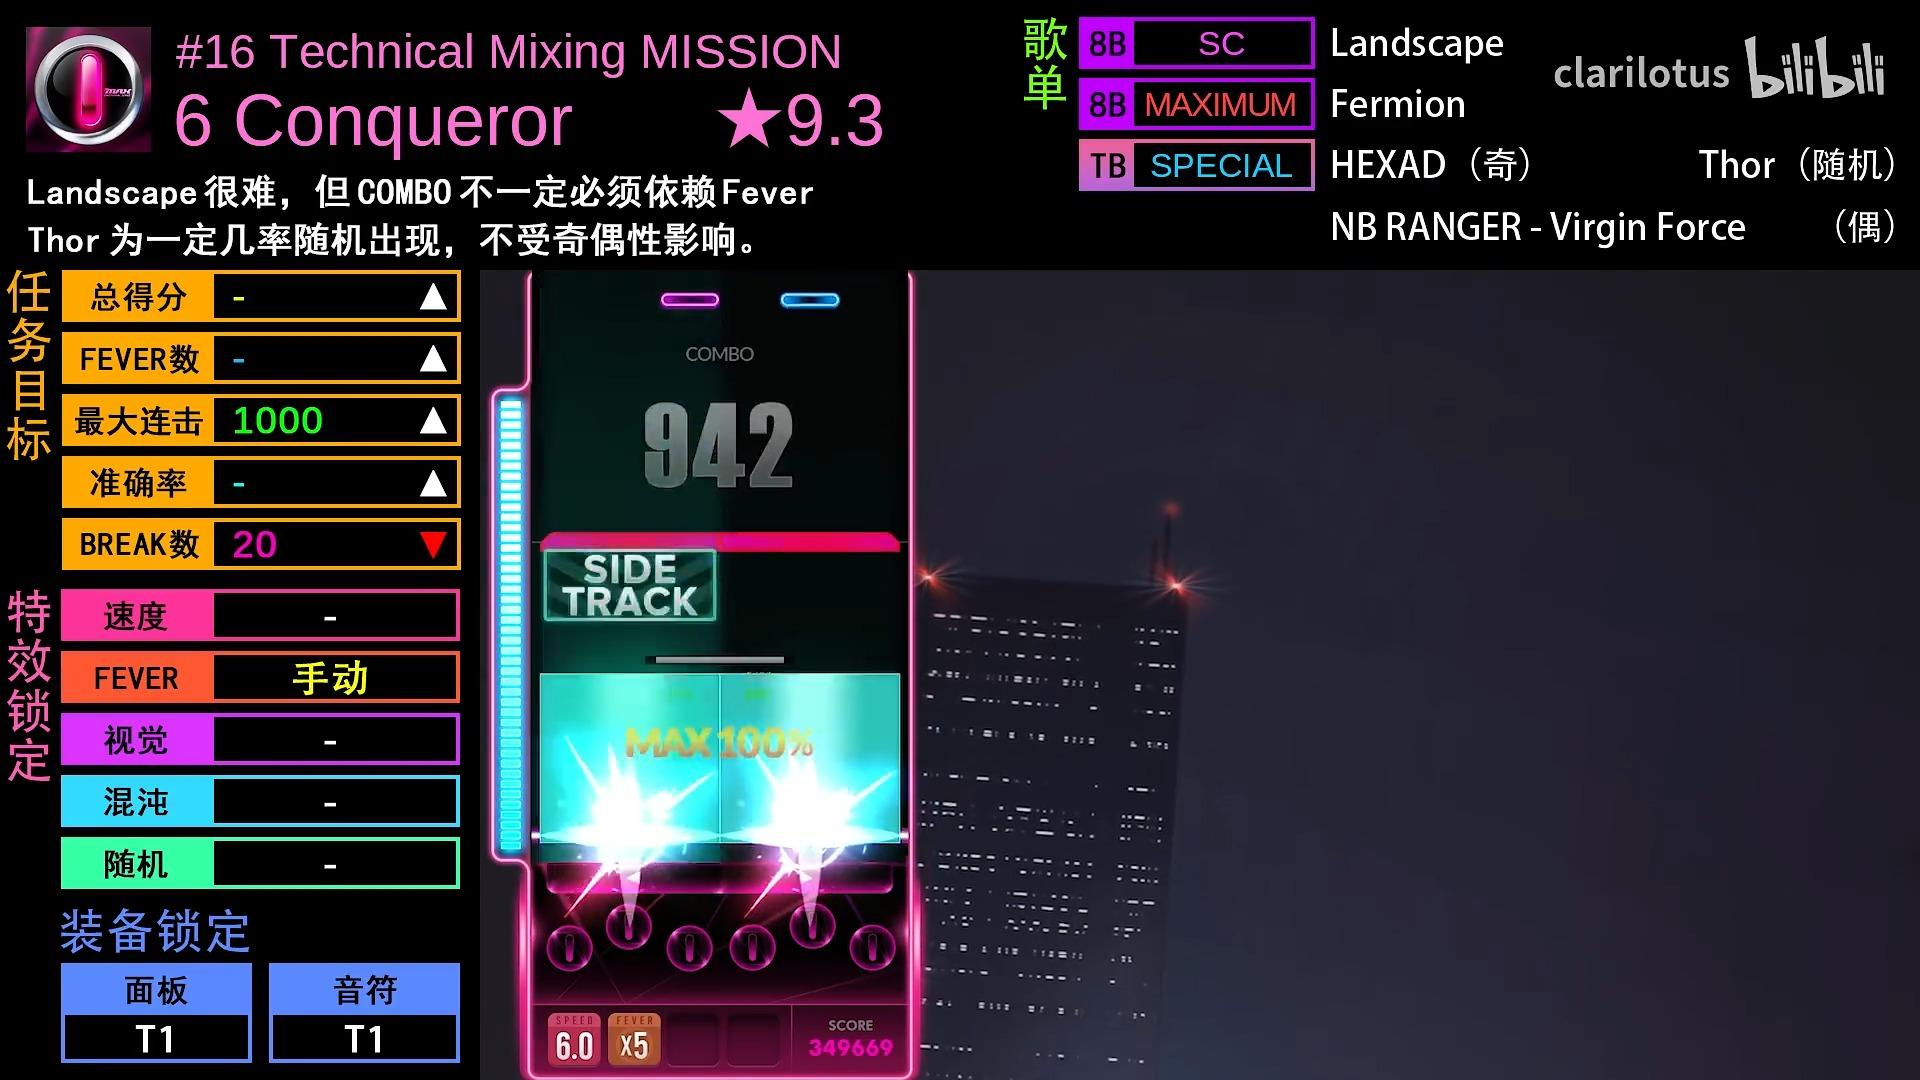note: (781, 293, 841, 310), (661, 291, 720, 309)
side-end: (539, 673, 720, 695), (720, 673, 901, 695)
xnote: (542, 530, 720, 553), (719, 531, 899, 553)
